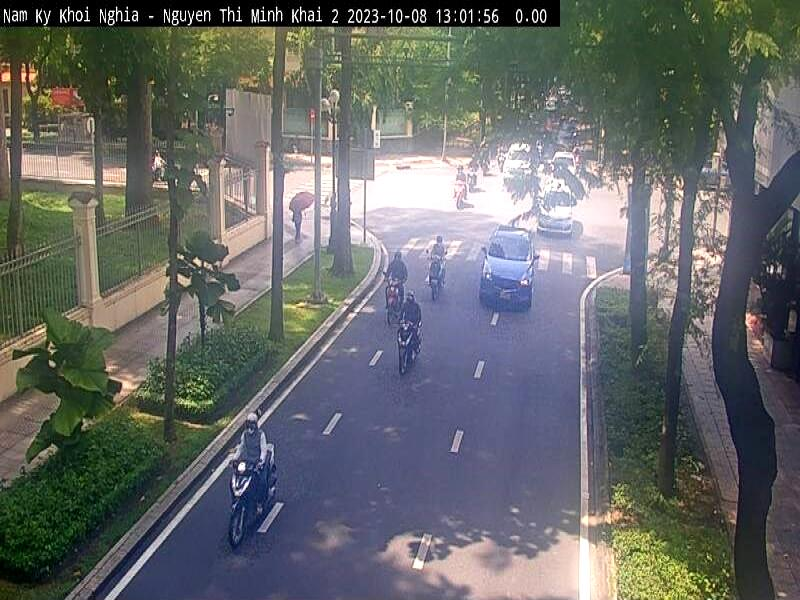car: (481, 226, 533, 310), (537, 181, 574, 238)
motorcycle: (226, 459, 262, 546), (396, 318, 420, 377), (381, 274, 401, 322)
